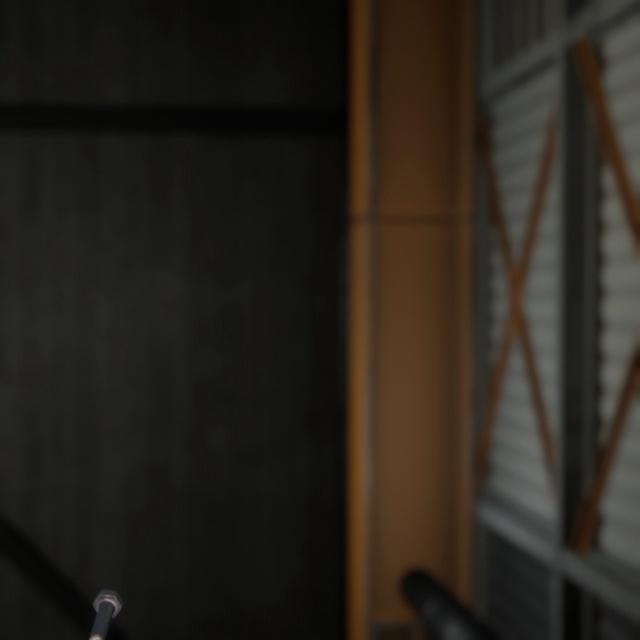bolt: (77, 562, 127, 640)
